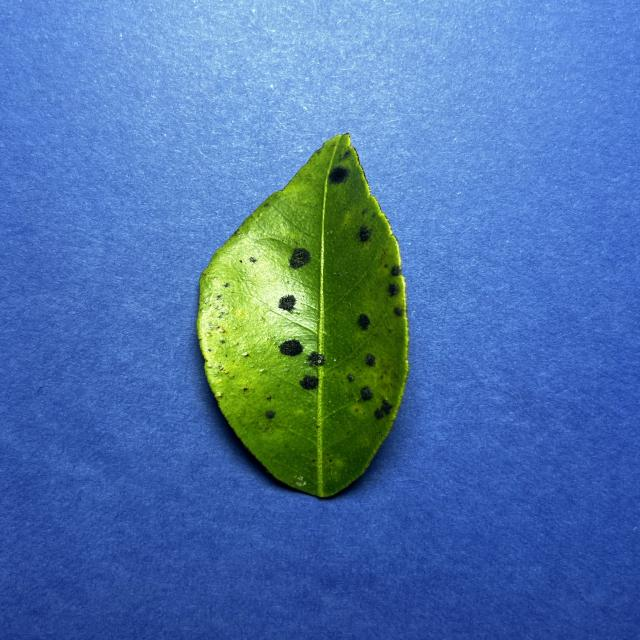sooty_mold: (197, 134, 408, 480)
